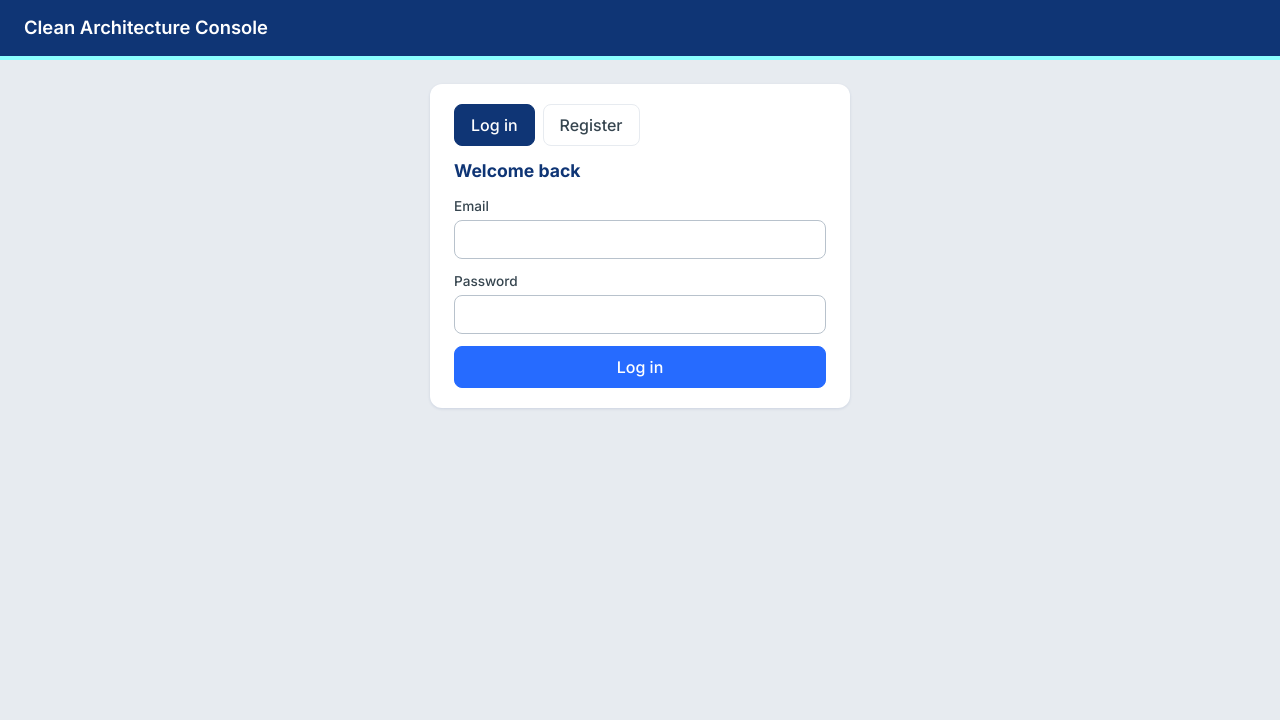
Test: register › mc06 a duplicate email shows the server error
Click the tab "Register".
click(591, 125)  # box [542,104,640,146]
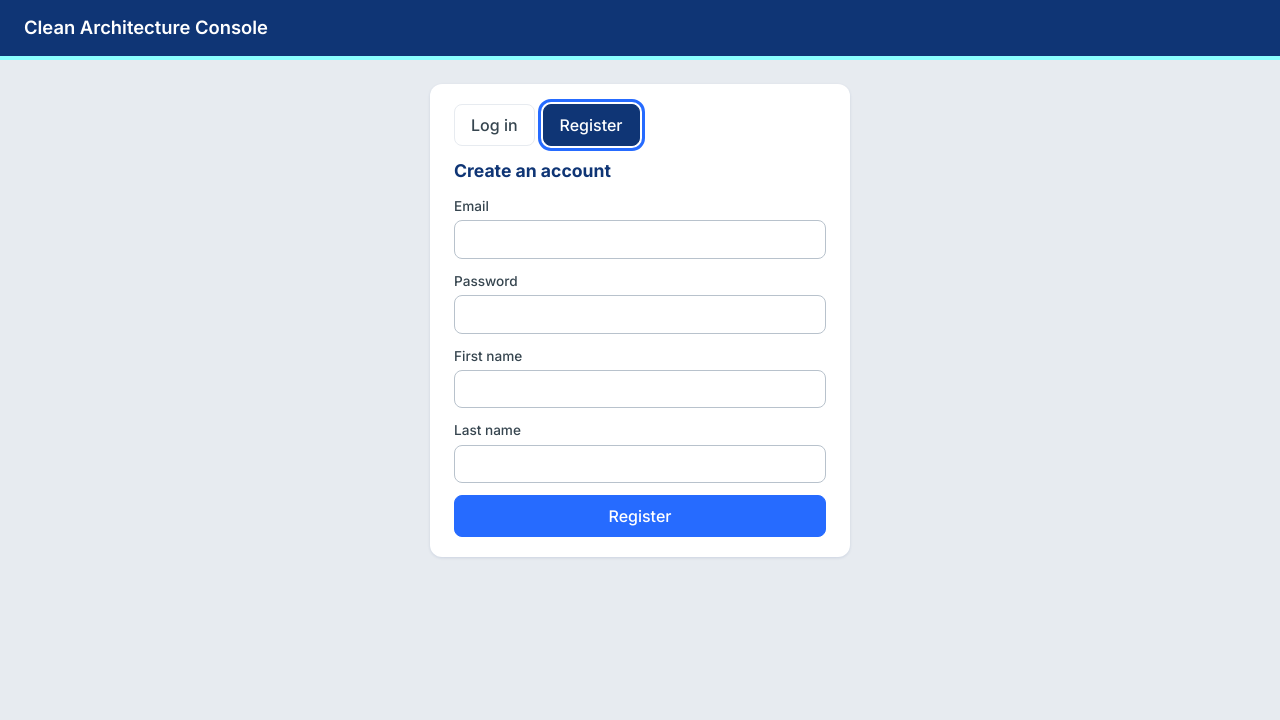
Type "admin@example.com" into the field labelled "Email".
click(640, 240); type("admin@example.com")  # box [454,220,826,259]
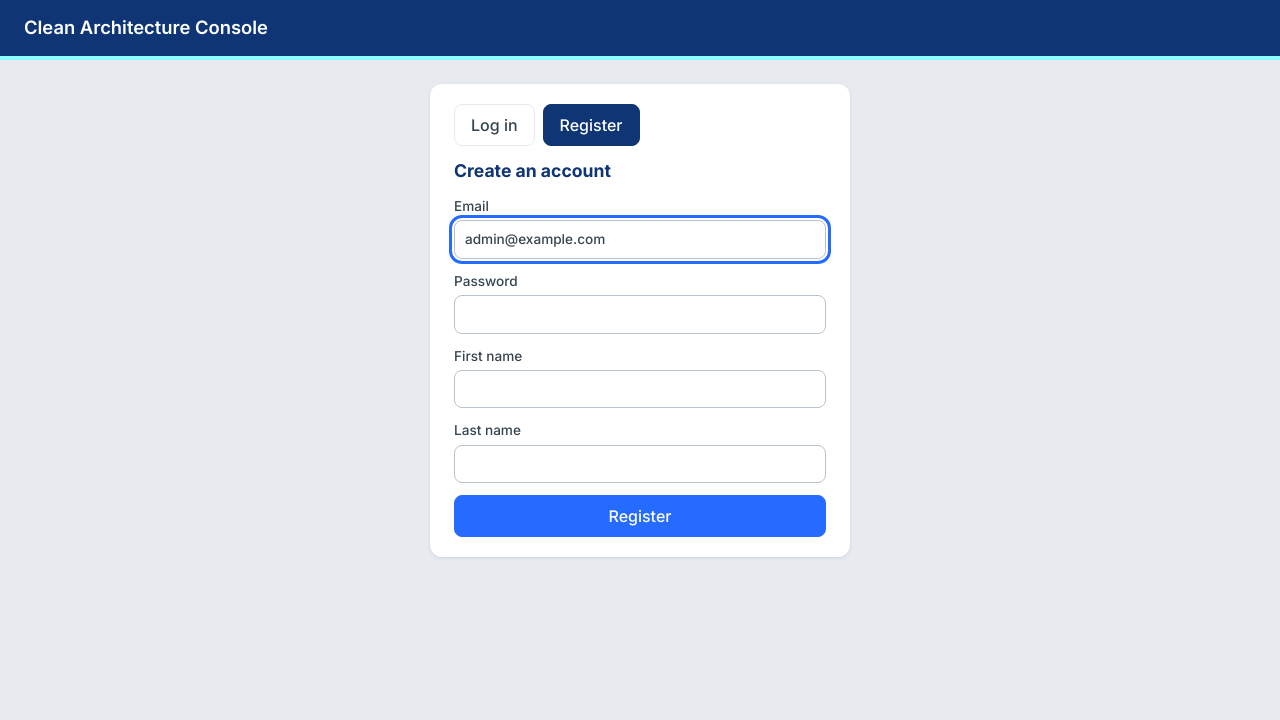
Type "pw123456" into the password field labelled "Password".
click(640, 314); type("pw123456")  # box [454,295,826,334]
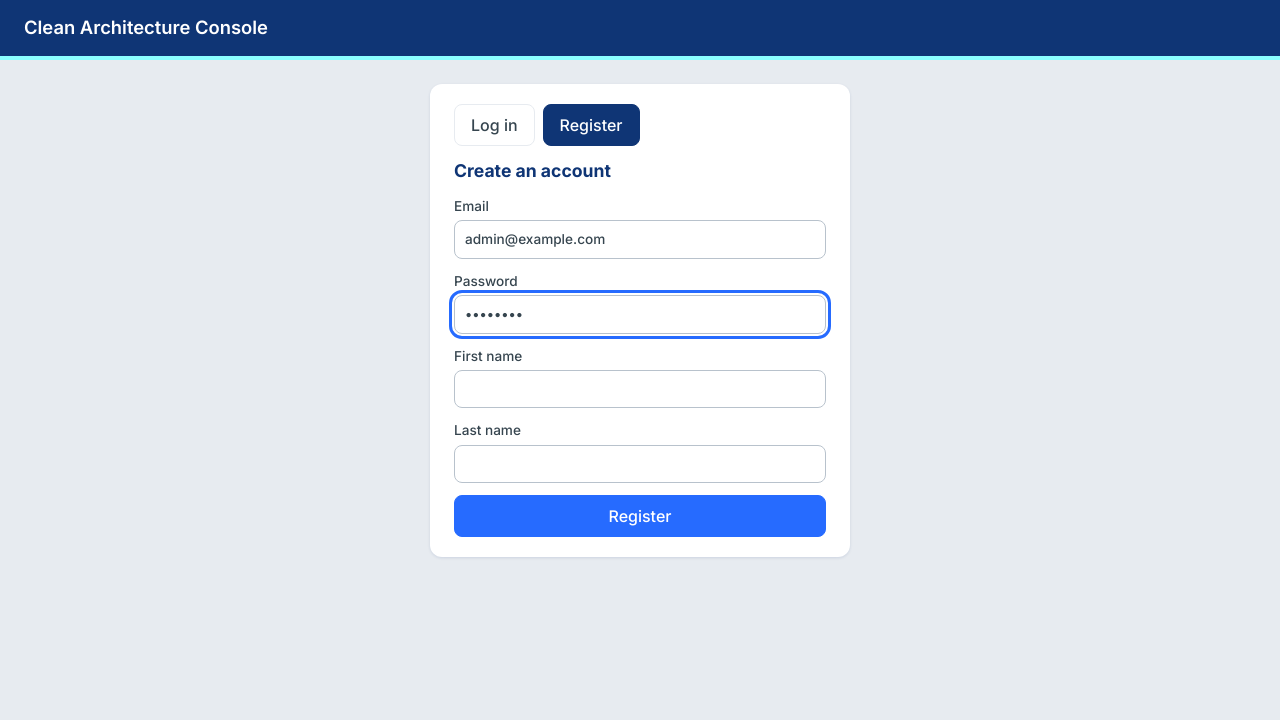
Click the button "Register".
click(640, 516)  # box [454,495,826,537]
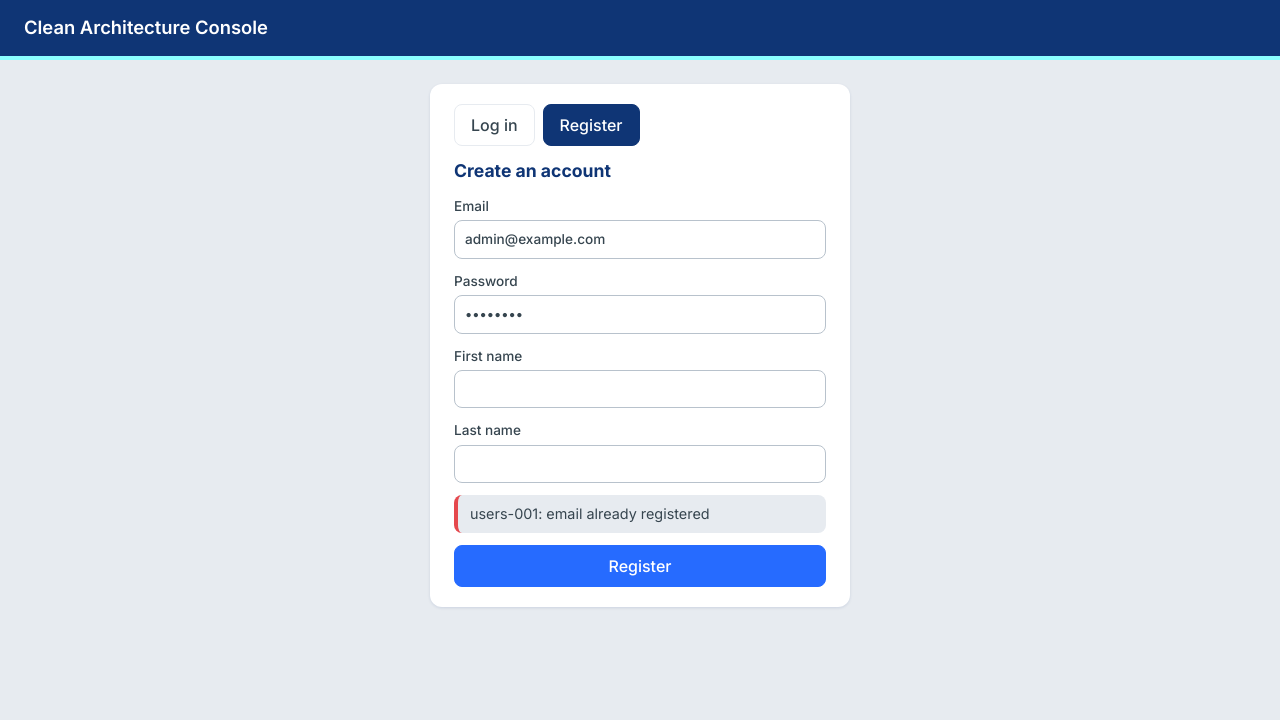
Now the message reads "users-001: email already registered", box [470,505,710,522]
